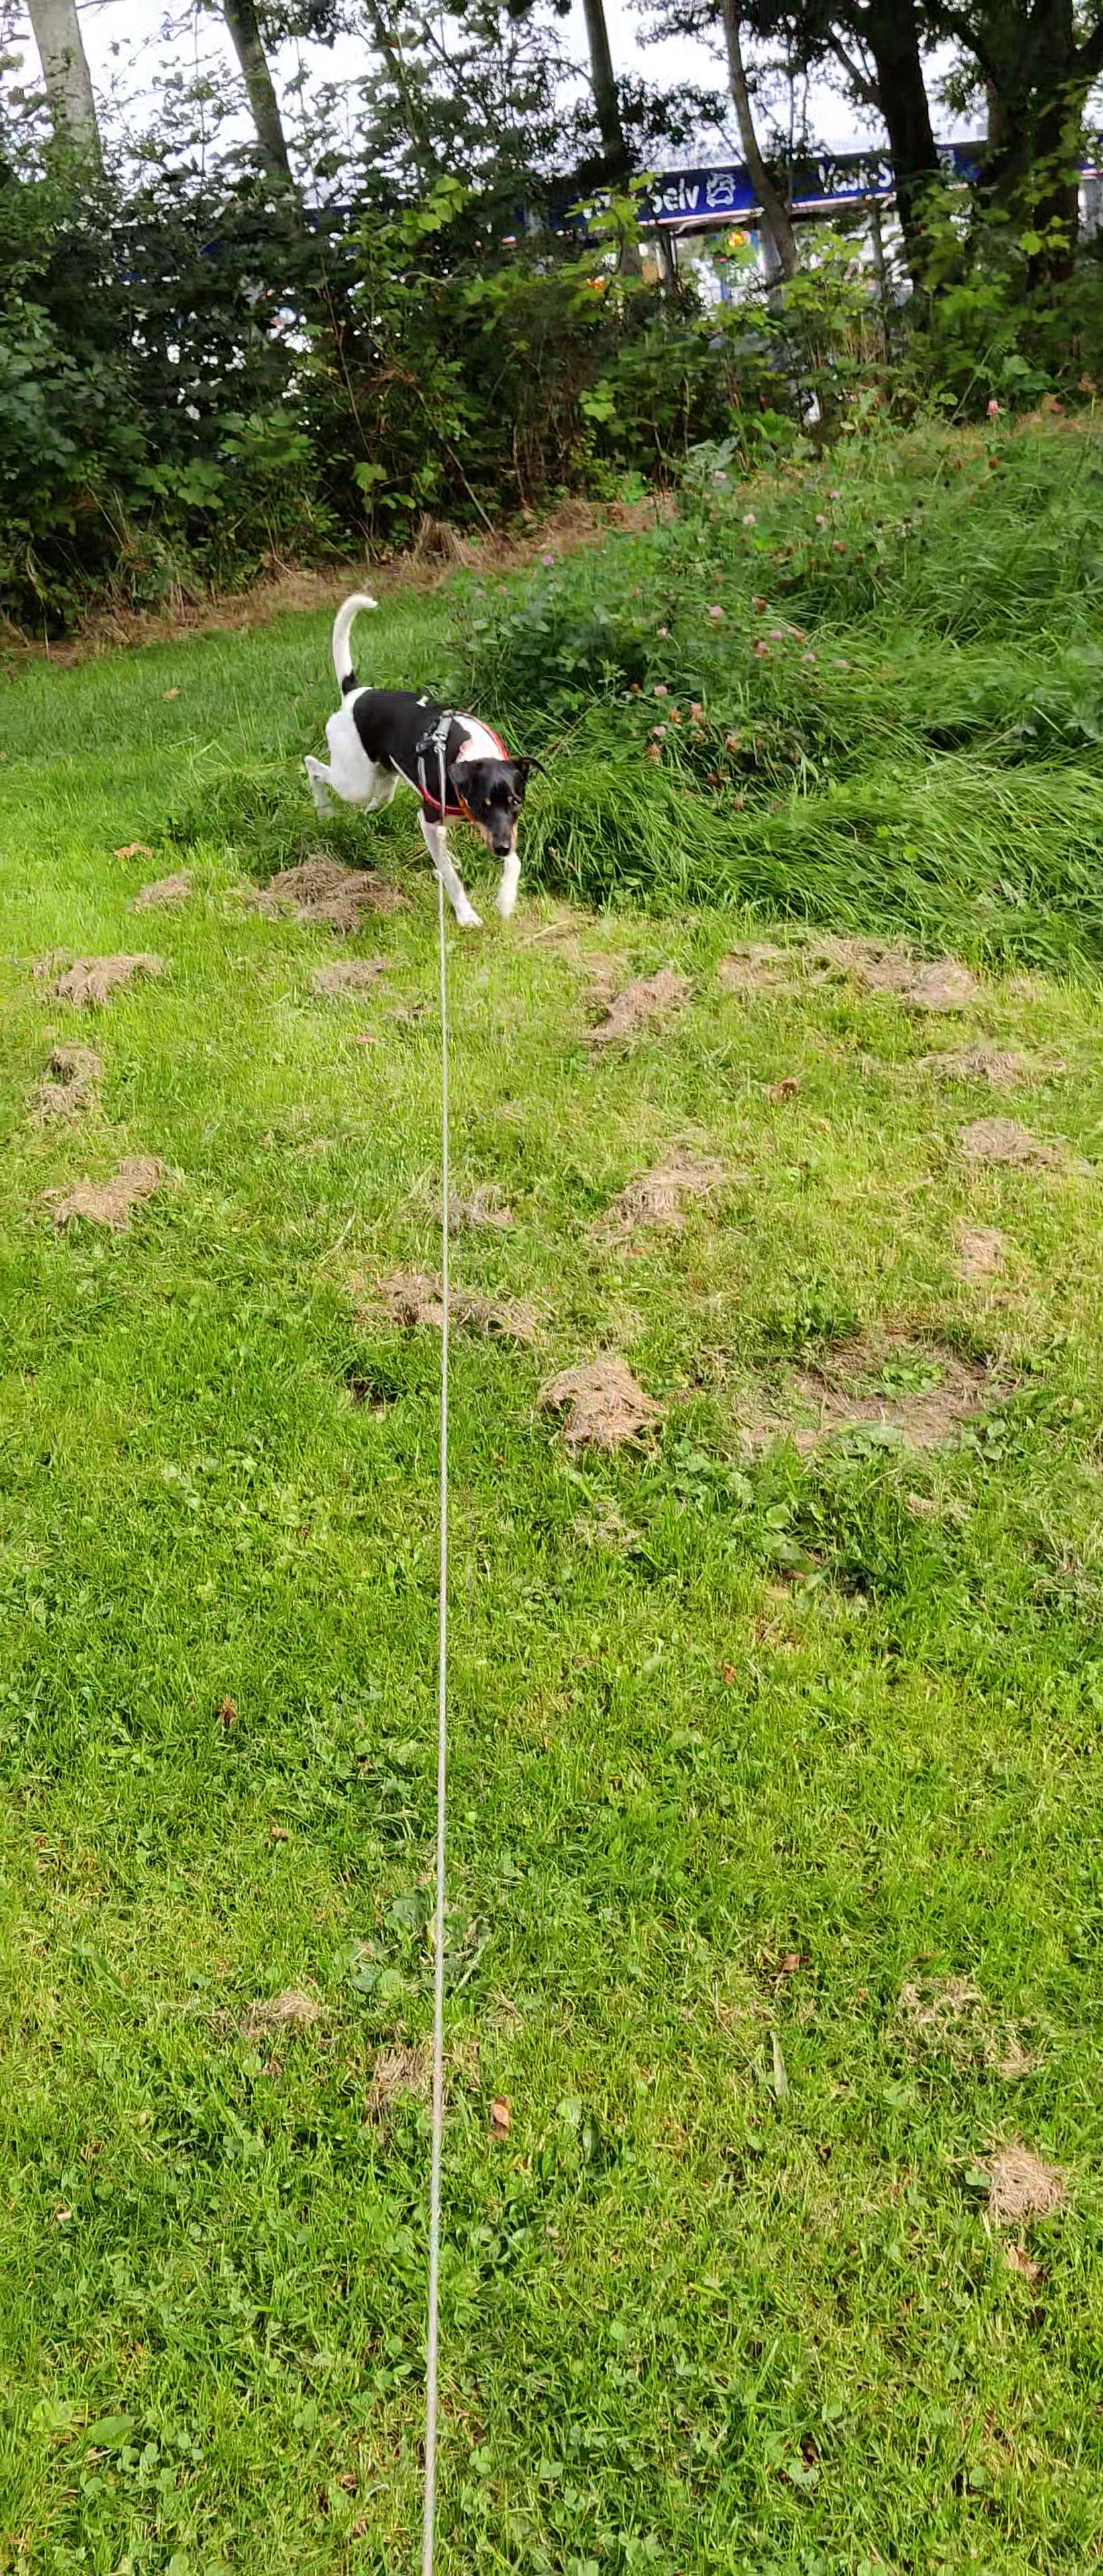Dog: (291, 580, 559, 948)
